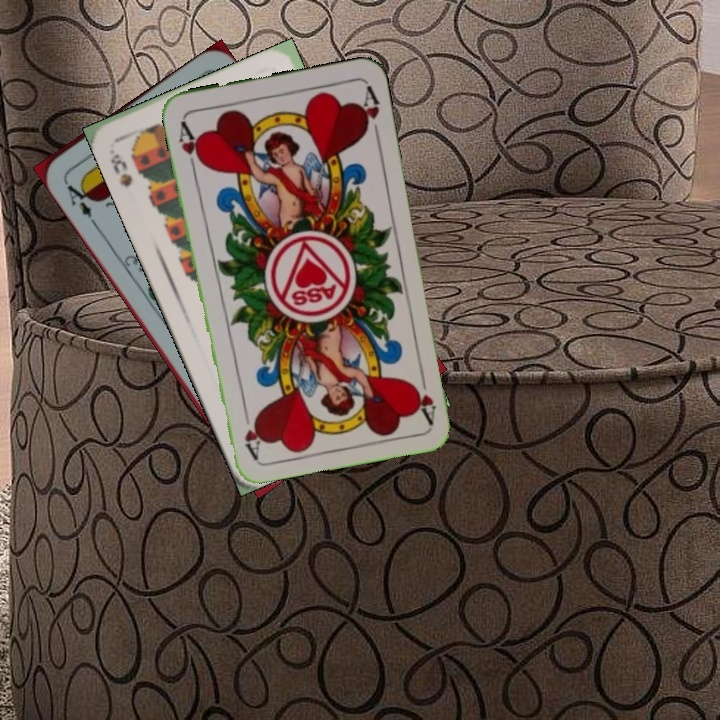EA: (60, 175, 99, 228)
HA: (407, 366, 439, 425), (174, 116, 206, 174)
S8: (105, 145, 135, 190)
